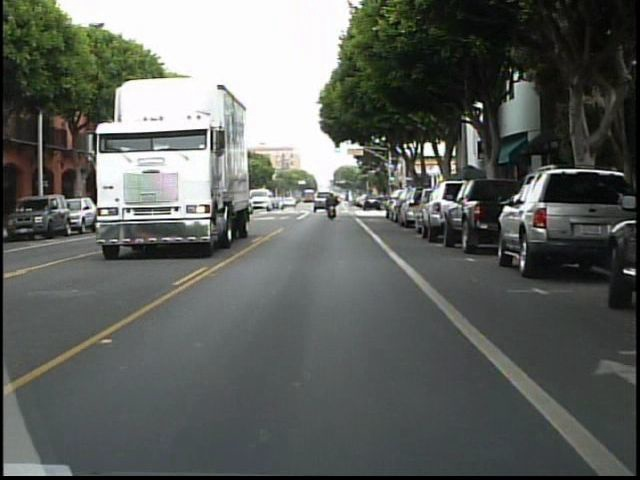person: (325, 192, 338, 223)
